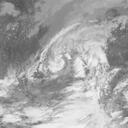cyclone: (30, 35, 89, 81)
